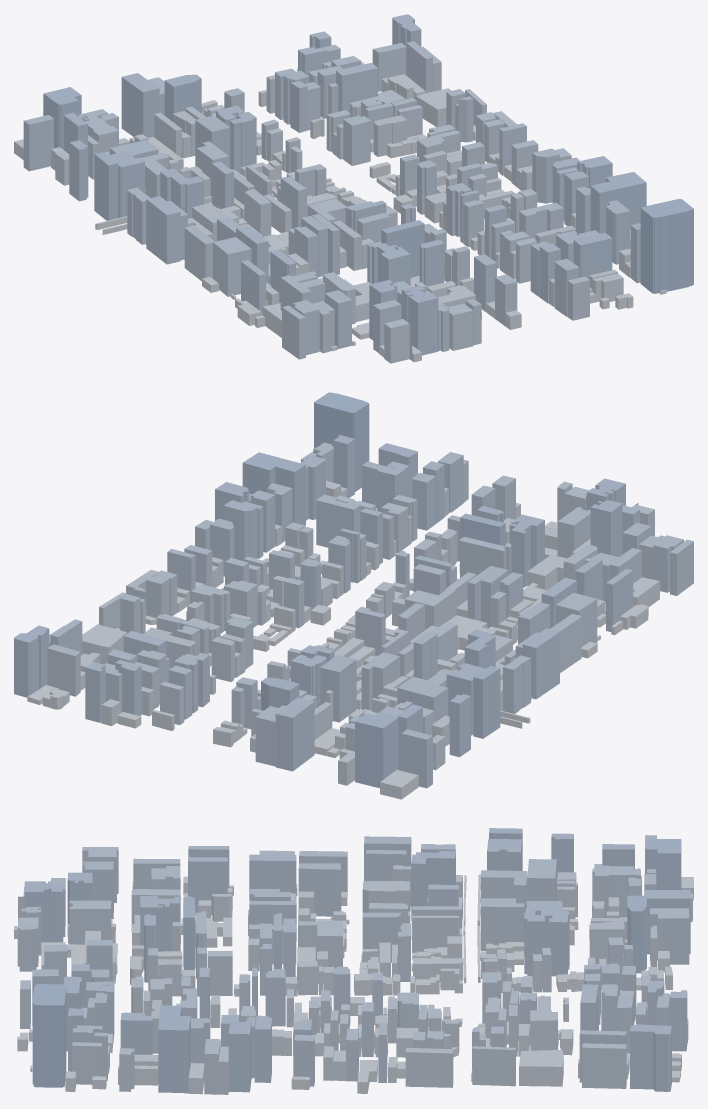
3 views of the same model, one above another, from view 1: azimuth 30°, elevation 25°; view 2: azimuth 150°, elevation 25°; view 3: azimuth 270°, elevation 25° (orthographic). The views are drawn at different scales.
Size of the model in its own units: 385 by 68.81 by 515.
